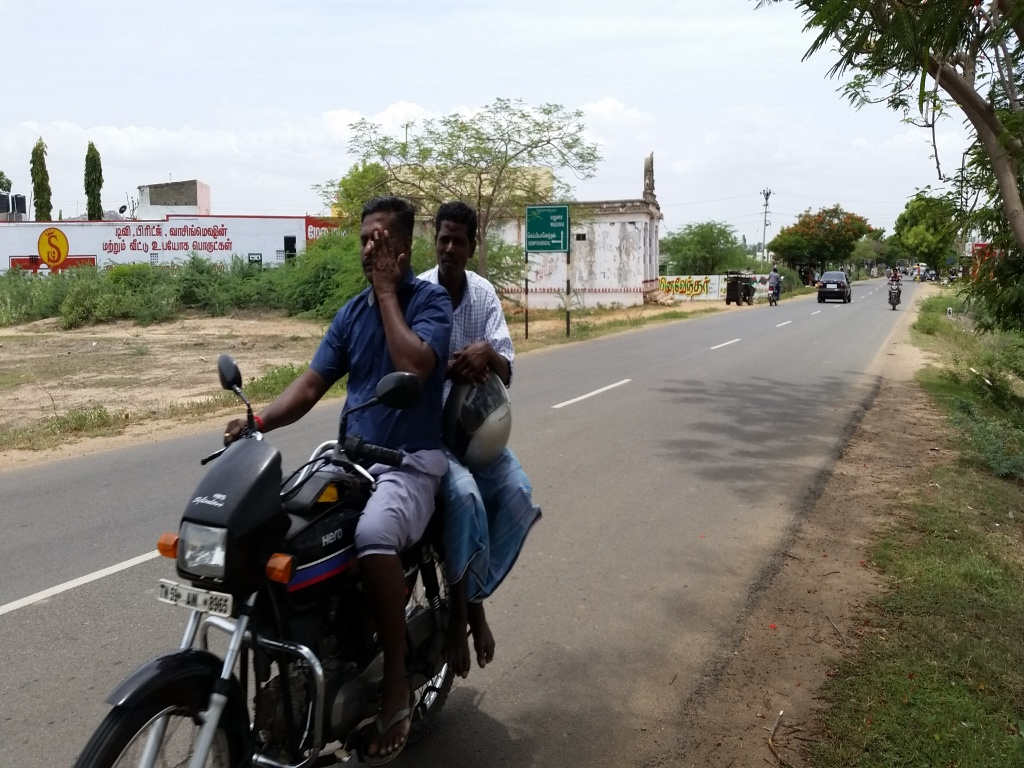biker: (54, 149, 575, 768)
nohelmet: (351, 183, 418, 305), (423, 190, 487, 296)
